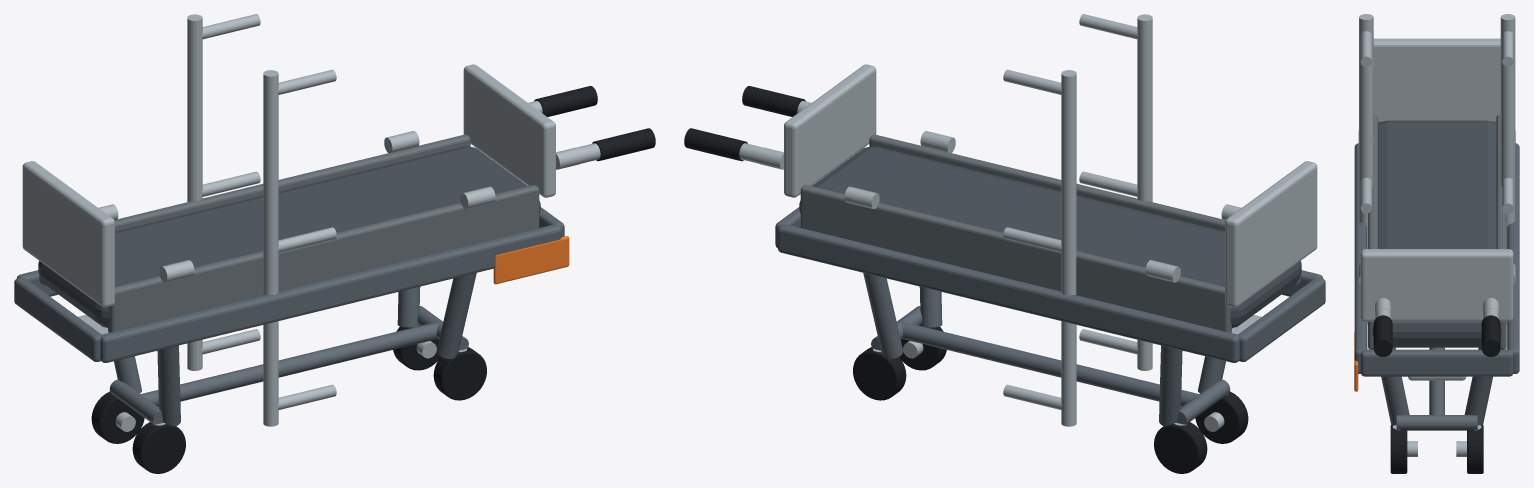
The model's file is ambulance_stretcher.fbx.
3 renders of one model, left to right at view 1: azimuth 30°, elevation 25°; view 2: azimuth 150°, elevation 25°; view 3: azimuth 270°, elevation 25°, orthographic. The views are drawn at different scales.
Visible parts, largest first — view 1: Stretcher_Mattress, Stretcher_Mattress_Edge, Stretcher_Frame_Left, Stretcher_Headboard, Stretcher_Footboard, Stretcher_SideRail_Left, Stretcher_SideRail_Right, Stretcher_Lower_Longbar, Stretcher_Mattress_Edge.001, Stretcher_Frame_Head, Stretcher_Warning_Plate, Stretcher_Wheel (+9 smaller); view 2: Stretcher_Mattress, Stretcher_Mattress_Edge.001, Stretcher_Frame_Right, Stretcher_Headboard, Stretcher_Footboard, Stretcher_SideRail_Right, Stretcher_SideRail_Left, Stretcher_Lower_Longbar, Stretcher_Mattress_Edge, Stretcher_Frame_Head, Stretcher_Wheel.001, Stretcher_Wheel.003 (+8 smaller); view 3: Stretcher_Mattress, Stretcher_Headboard, Stretcher_Footboard, Stretcher_Frame_Foot, Stretcher_SideRail_Right, Stretcher_SideRail_Left, Stretcher_Frame_Right, Stretcher_Frame_Left, Stretcher_Lower_Crossbar.001, Stretcher_Mattress_Edge.001, Stretcher_Mattress_Edge, Stretcher_Leg.003 (+9 smaller).
Part boxes in pixels (left/top/right/bottom): Stretcher_Mattress: left=38, top=146, right=540, bottom=327; Stretcher_Mattress_Edge: left=108, top=185, right=539, bottom=332; Stretcher_Frame_Left: left=100, top=224, right=561, bottom=362; Stretcher_Headboard: left=22, top=161, right=114, bottom=307; Stretcher_Footboard: left=463, top=64, right=555, bottom=197; Stretcher_SideRail_Left: left=263, top=69, right=336, bottom=426; Stretcher_SideRail_Right: left=187, top=14, right=260, bottom=370; Stretcher_Lower_Longbar: left=139, top=322, right=439, bottom=406; Stretcher_Mattress_Edge.001: left=39, top=134, right=470, bottom=285; Stretcher_Frame_Head: left=14, top=277, right=101, bottom=361; Stretcher_Warning_Plate: left=493, top=236, right=569, bottom=284; Stretcher_Wheel: left=132, top=422, right=185, bottom=473; Stretcher_Mattress: left=799, top=146, right=1301, bottom=327; Stretcher_Mattress_Edge.001: left=800, top=185, right=1231, bottom=332; Stretcher_Frame_Right: left=778, top=224, right=1239, bottom=362; Stretcher_Headboard: left=1225, top=161, right=1317, bottom=307; Stretcher_Footboard: left=784, top=64, right=876, bottom=197; Stretcher_SideRail_Right: left=1003, top=69, right=1076, bottom=426; Stretcher_SideRail_Left: left=1079, top=14, right=1152, bottom=370; Stretcher_Lower_Longbar: left=900, top=322, right=1200, bottom=406; Stretcher_Mattress_Edge: left=869, top=134, right=1300, bottom=285; Stretcher_Frame_Head: left=1238, top=277, right=1325, bottom=361; Stretcher_Wheel.001: left=1154, top=422, right=1207, bottom=473; Stretcher_Wheel.003: left=853, top=347, right=906, bottom=400; Stretcher_Mattress: left=1372, top=120, right=1501, bottom=347; Stretcher_Headboard: left=1373, top=38, right=1500, bottom=122; Stretcher_Footboard: left=1360, top=249, right=1513, bottom=321; Stretcher_Frame_Foot: left=1360, top=349, right=1513, bottom=376; Stretcher_SideRail_Right: left=1500, top=14, right=1515, bottom=349; Stretcher_SideRail_Left: left=1359, top=14, right=1373, bottom=349; Stretcher_Frame_Right: left=1507, top=143, right=1519, bottom=373; Stretcher_Frame_Left: left=1354, top=143, right=1366, bottom=373; Stretcher_Lower_Crossbar.001: left=1396, top=415, right=1477, bottom=430; Stretcher_Mattress_Edge.001: left=1496, top=114, right=1506, bottom=349; Stretcher_Mattress_Edge: left=1368, top=114, right=1377, bottom=349; Stretcher_Leg.003: left=1464, top=347, right=1492, bottom=425.
Size of the model in its own units: 272 by 177 by 73.65.
